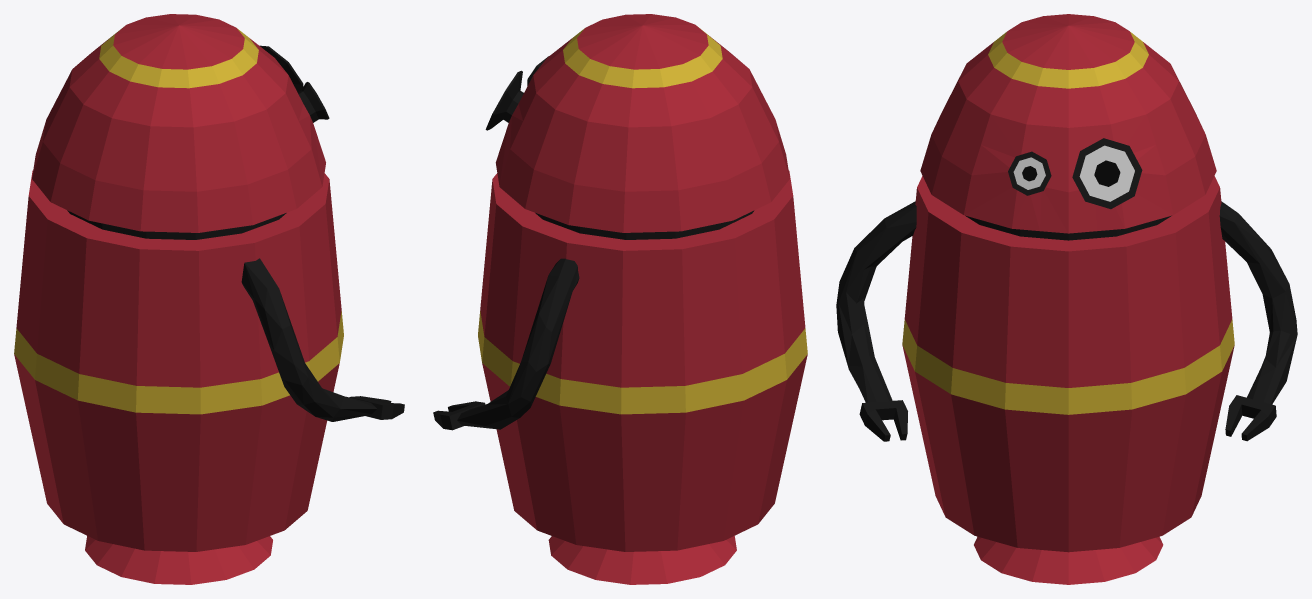
Rendered from redBot.dae.
3 renders of one model, left to right at view 1: azimuth 30°, elevation 25°; view 2: azimuth 150°, elevation 25°; view 3: azimuth 270°, elevation 25°, orthographic.
Visible parts, largest first — view 1: Cylinder, Circle_002, Cube_001; view 2: Cylinder, Circle_001, Cube; view 3: Cylinder, Circle_002, Circle_001, Cube, Cube_001.
Boxes of the visible parts, x1,y1,x2,y2 form: Cylinder: [14, 14, 343, 584]; Circle_002: [241, 258, 376, 421]; Cube_001: [349, 396, 404, 419]; Cylinder: [478, 14, 807, 584]; Circle_001: [457, 258, 579, 429]; Cube: [433, 401, 485, 430]; Cylinder: [902, 14, 1234, 584]; Circle_002: [836, 201, 916, 402]; Circle_001: [1219, 201, 1297, 404]; Cube: [1225, 395, 1276, 441]; Cube_001: [859, 400, 907, 441].
Size of the model in its own units: 2 by 3.45 by 2.77.
